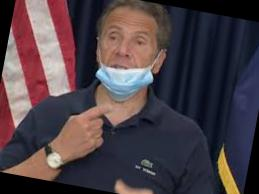mask_weared_incorrect: (94, 20, 160, 93)
